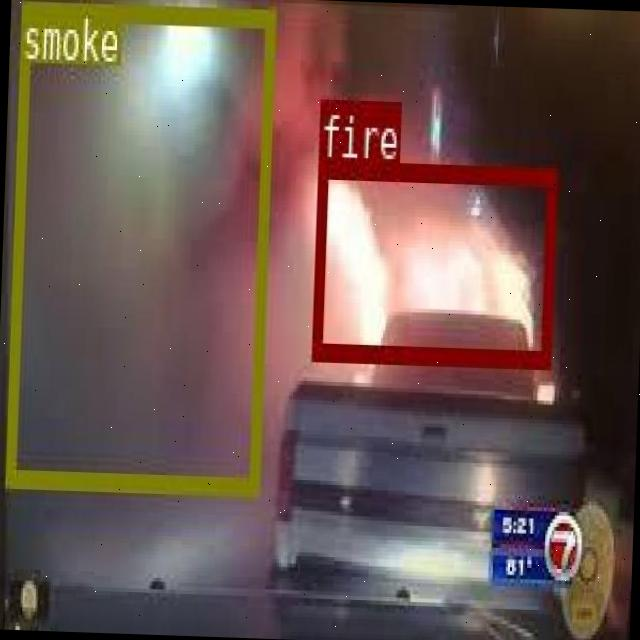fire: (310, 159, 554, 362)
smoke: (3, 0, 274, 493)
